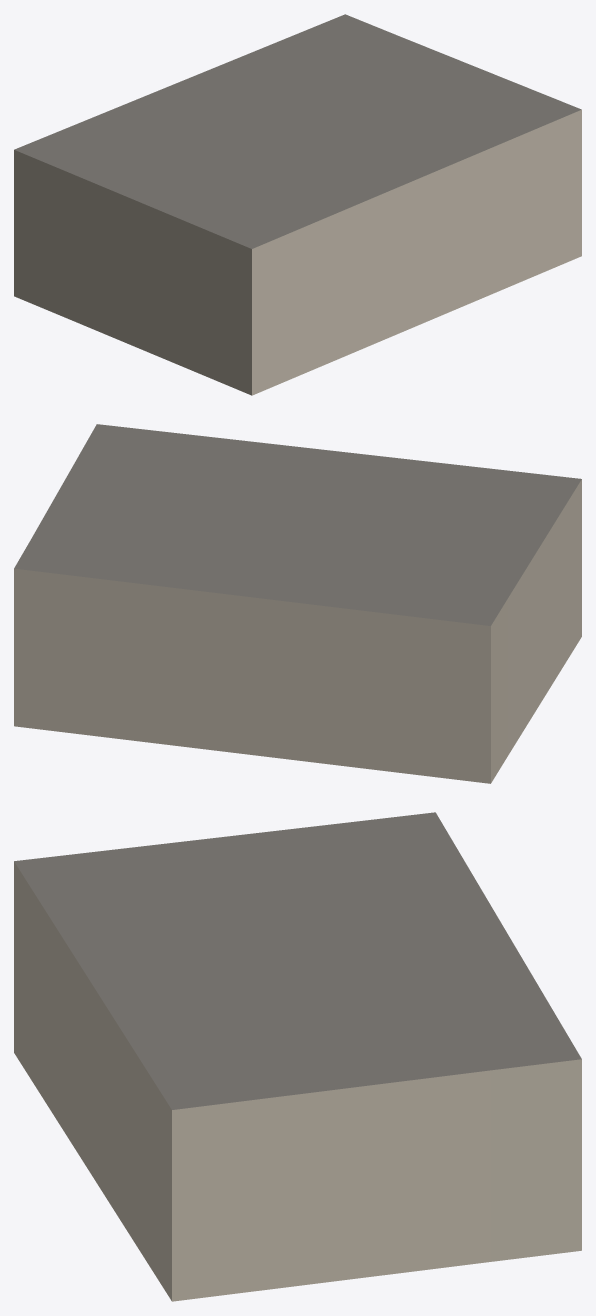
3 views of the same model, one above another, from view 1: azimuth 30°, elevation 25°; view 2: azimuth 150°, elevation 25°; view 3: azimuth 270°, elevation 25° (orthographic). The views are drawn at different scales.
Visible parts, largest first — view 1: HP-w1196980501; view 2: HP-w1196980501; view 3: HP-w1196980501.
Boxes of the visible parts, x1,y1,x2,y2 form: HP-w1196980501: (14,14,581,395); HP-w1196980501: (14,424,581,783); HP-w1196980501: (14,812,581,1301).
Size of the model in its own units: 60.02 by 18 by 48.37.
